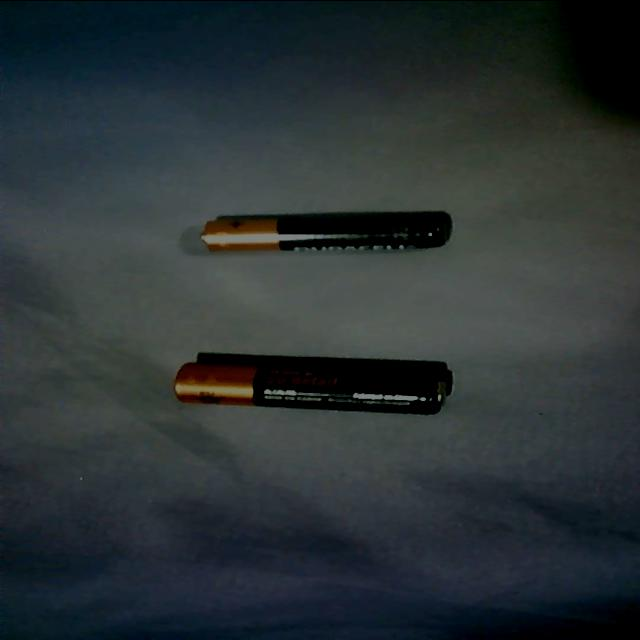AA: (168, 352, 464, 419)
AAA: (190, 206, 460, 258)
